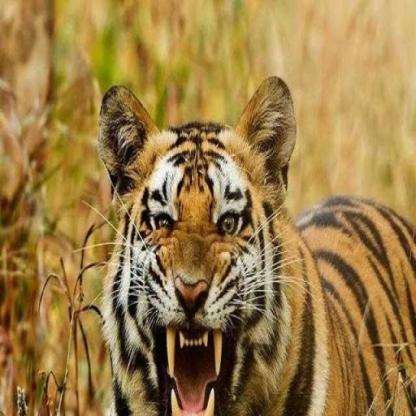Tiger: (73, 77, 415, 415)
